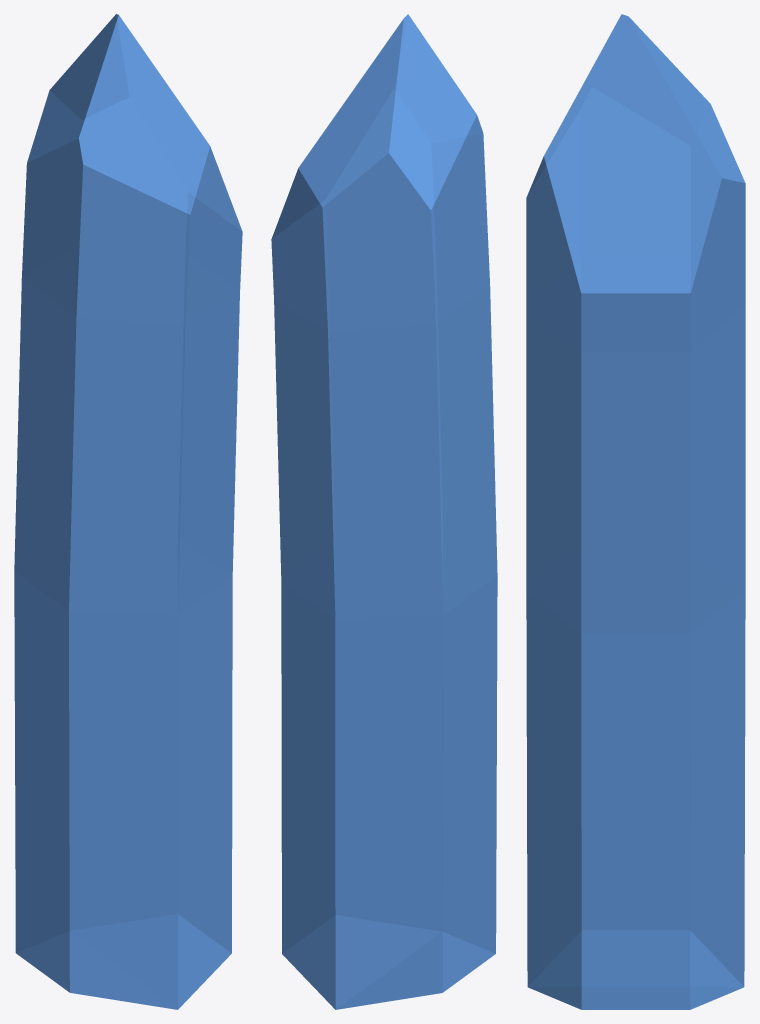
File: Crystal_m_04.fbx
3 views of the same model, side by side, from view 1: azimuth 30°, elevation 25°; view 2: azimuth 150°, elevation 25°; view 3: azimuth 270°, elevation 25° (orthographic).
Parts seen in each view (by area): view 1: Crystal_m_04; view 2: Crystal_m_04; view 3: Crystal_m_04.
Part boxes in pixels (left/top/right/bottom): Crystal_m_04: left=14, top=14, right=242, bottom=1009; Crystal_m_04: left=271, top=14, right=497, bottom=1009; Crystal_m_04: left=526, top=14, right=745, bottom=1009.
Bounding box in the file's own units: 0.4014 × 2.13 × 0.437.
